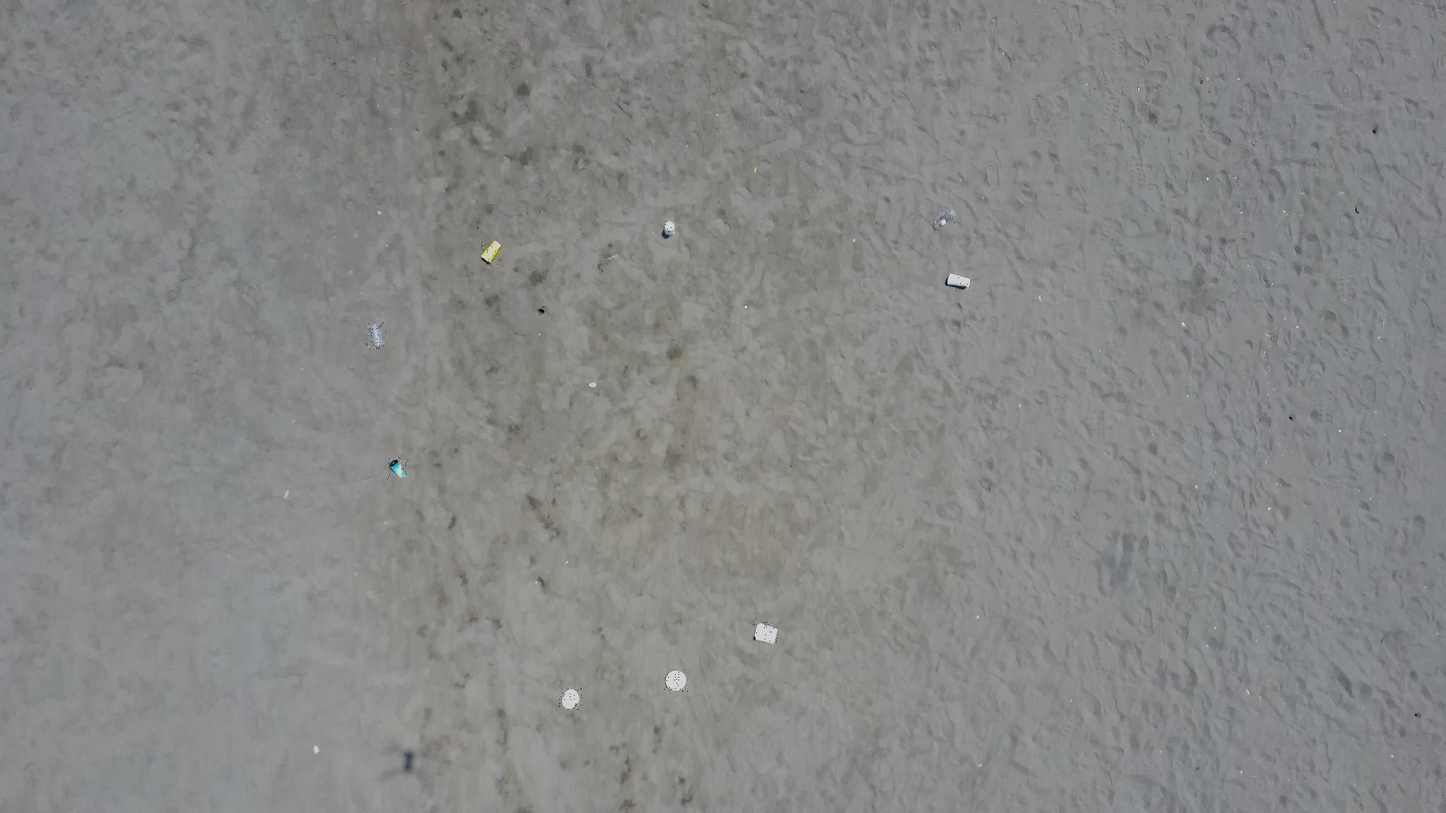Garbage: (664, 669, 686, 691), (754, 622, 777, 643), (933, 208, 955, 229), (482, 240, 501, 263), (560, 688, 580, 709), (367, 322, 383, 346), (946, 273, 969, 288), (388, 459, 407, 477), (662, 219, 675, 237), (589, 381, 596, 387), (313, 745, 318, 753)
